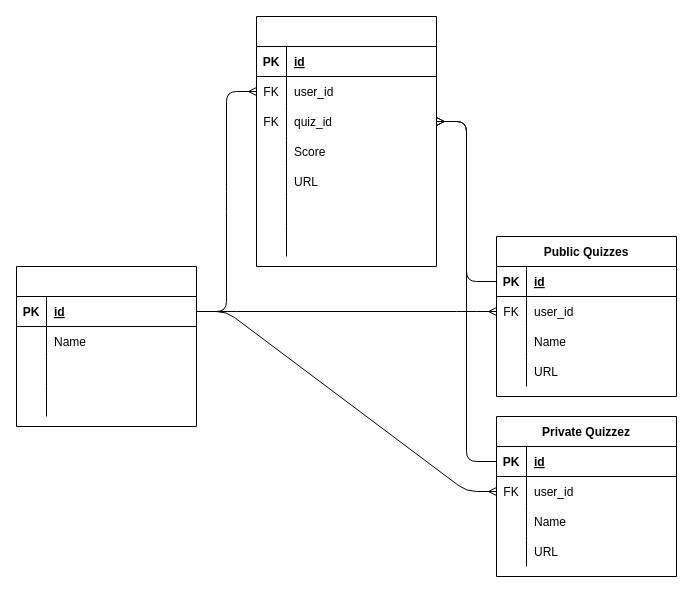
Some shapes in this 693 by 593 pixel diagram are drawn without their labels. The box of each missing label's shape, as (x1, y1, x2, y2) in pixels:
Quiz Results: (256, 16, 436, 266)
Users: (16, 266, 196, 426)
